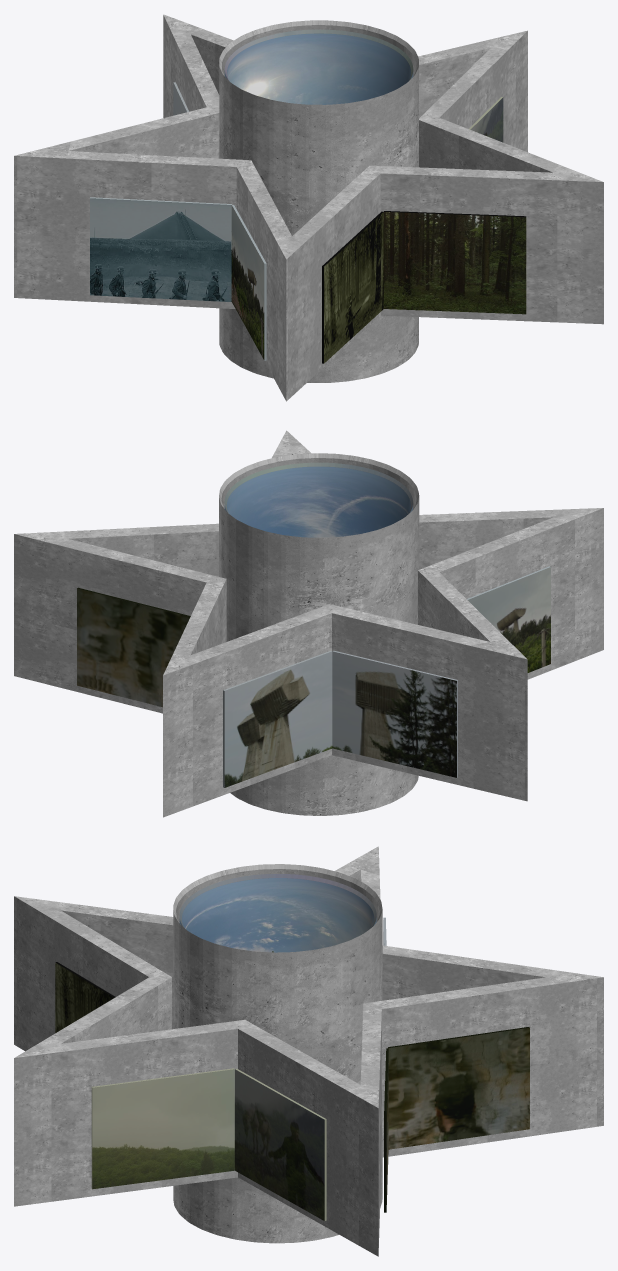
Rendered from kozara.glb.
The picture shows the model from 3 angles, top to bottom: view 1: azimuth 30°, elevation 25°; view 2: azimuth 150°, elevation 25°; view 3: azimuth 270°, elevation 25°; orthographic projection. The views are drawn at different scales.
Parts seen in each view (by area): view 1: neuer Stern, Circle, videotarget, mitrovica, Cylinder.003, tjentiste; view 2: neuer Stern, Circle, Nis, Cylinder.003, mostar, mitrovica; view 3: neuer Stern, Circle, tjentiste, mostar, Cylinder.003, videotarget.
Boxes of the visible parts, x1,y1,x2,y2 form: neuer Stern: (14, 14, 603, 401); Circle: (219, 20, 418, 382); videotarget: (322, 211, 526, 363); mitrovica: (90, 197, 266, 360); Cylinder.003: (224, 29, 413, 104); tjentiste: (469, 97, 503, 142); neuer Stern: (14, 430, 603, 817); Circle: (219, 453, 419, 815); Nis: (223, 650, 457, 787); Cylinder.003: (224, 462, 412, 537); mostar: (77, 587, 190, 707); mitrovica: (467, 566, 550, 672); neuer Stern: (14, 846, 603, 1256); Circle: (173, 864, 382, 1243); tjentiste: (91, 1068, 326, 1221); mostar: (384, 1027, 529, 1212); Cylinder.003: (179, 874, 376, 952); videotarget: (55, 962, 115, 1032).
Size of the model in its own units: 13.96 by 7.22 by 13.28.
8 materials, 8 textured.
